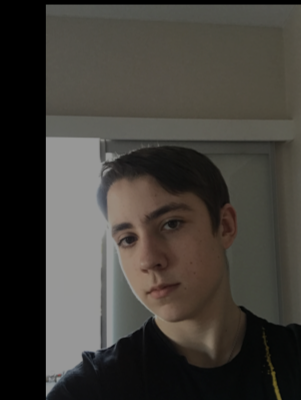without_mask: (107, 198, 205, 324)
